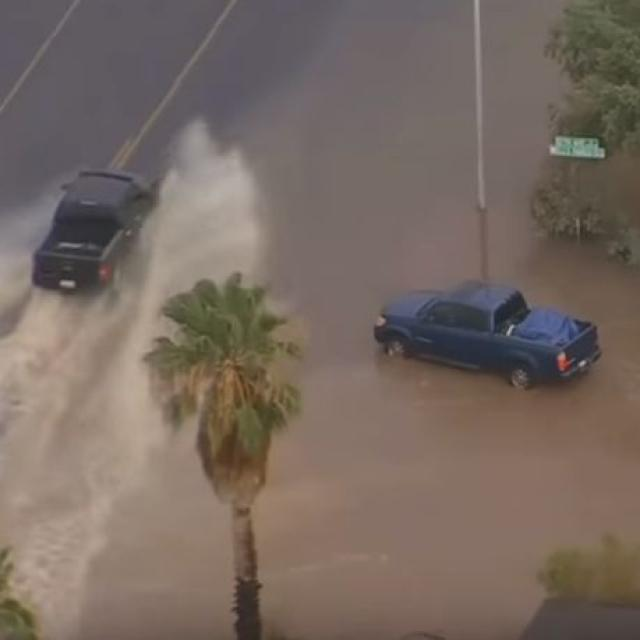flooded_areas: (43, 39, 637, 613)
